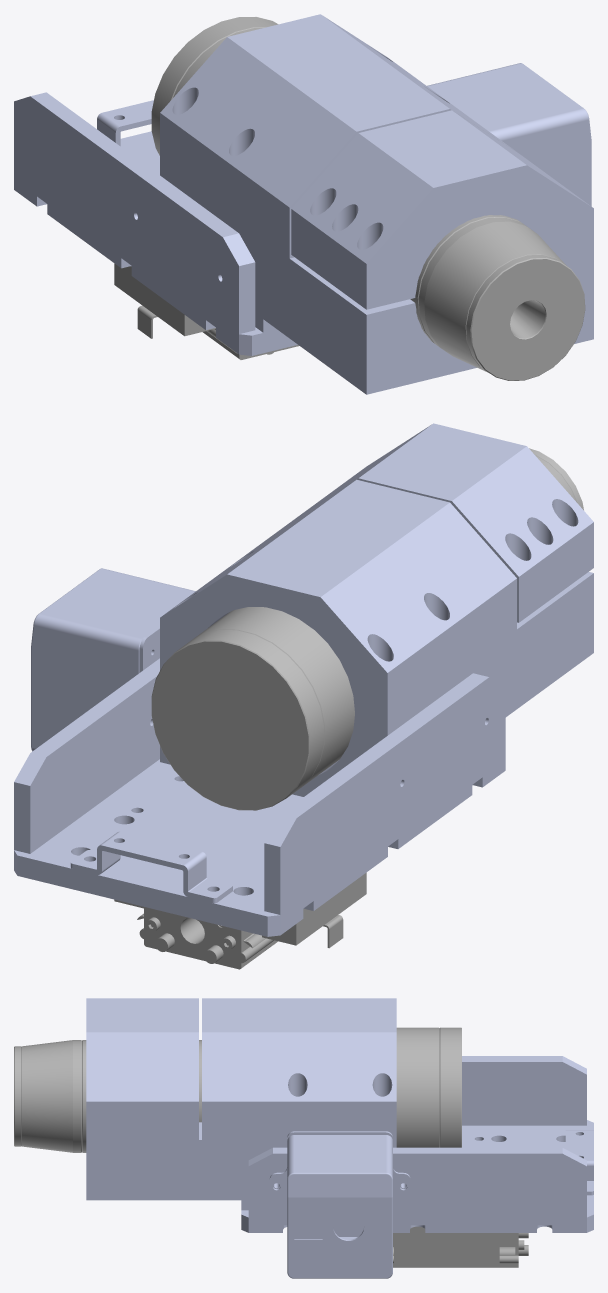
File: Z_Axis2.fbx
3 views of the same model, one above another, from view 1: azimuth 30°, elevation 25°; view 2: azimuth 150°, elevation 25°; view 3: azimuth 270°, elevation 25° (orthographic). The views are drawn at different scales.
Visible parts, largest first — view 1: small gantry Cnc machine.IGS-1/翋嵞嘐隅釱.IGS-1-solid1, small gantry Cnc machine.IGS-1/翋嵞_EIA0820-30_3D.IGS-1-solid1, small gantry Cnc machine.IGS-1/11011M084-P07.1翋嵞澀啣.IGS-1-sol, small gantry Cnc machine.IGS-1/偌漃碟.IGS-1-solid1, small gantry Cnc machine.IGS-1/11011M084-P06.2翋嵞窣諉啣.IGS-1-so, small gantry Cnc machine.IGS-1/KK86-AS2.IGS-1-solid1, small gantry Cnc machine.IGS-1/11011M084-P12.0旰毾踢.IGS-1-soli; view 2: small gantry Cnc machine.IGS-1/翋嵞嘐隅釱.IGS-1-solid1, small gantry Cnc machine.IGS-1/翋嵞_EIA0820-30_3D.IGS-1-solid1, small gantry Cnc machine.IGS-1/11011M084-P06.2翋嵞窣諉啣.IGS-1-so, small gantry Cnc machine.IGS-1/11011M084-P07.1翋嵞澀啣.IGS-1-sol, small gantry Cnc machine.IGS-1/偌漃碟.IGS-1-solid1, small gantry Cnc machine.IGS-1/11011M084-P07.2翋嵞澀啣.IGS-1-sol, small gantry Cnc machine.IGS-1/KK86-AS2.IGS-1-solid1, small gantry Cnc machine.IGS-1/11011M084-P12.0旰毾踢.IGS-1-soli; view 3: small gantry Cnc machine.IGS-1/翋嵞嘐隅釱.IGS-1-solid1, small gantry Cnc machine.IGS-1/翋嵞_EIA0820-30_3D.IGS-1-solid1, small gantry Cnc machine.IGS-1/11011M084-P07.2翋嵞澀啣.IGS-1-sol, small gantry Cnc machine.IGS-1/偌漃碟.IGS-1-solid1, small gantry Cnc machine.IGS-1/11011M084-P07.1翋嵞澀啣.IGS-1-sol, small gantry Cnc machine.IGS-1/11011M084-P06.2翋嵞窣諉啣.IGS-1-so, small gantry Cnc machine.IGS-1/KK86-AS2.IGS-1-solid1, small gantry Cnc machine.IGS-1/11011M084-P15.0 偌漃碟嘐隅啣.IGS-1-, small gantry Cnc machine.IGS-1/11011M084-P12.0旰毾踢.IGS-1-soli.
Part boxes in pixels (x1,y1,x2,y2): small gantry Cnc machine.IGS-1/翋嵞嘐隅釱.IGS-1-solid1: [160, 14, 593, 394]; small gantry Cnc machine.IGS-1/翋嵞_EIA0820-30_3D.IGS-1-solid1: [151, 17, 585, 380]; small gantry Cnc machine.IGS-1/11011M084-P07.1翋嵞澀啣.IGS-1-sol: [14, 92, 255, 333]; small gantry Cnc machine.IGS-1/偌漃碟.IGS-1-solid1: [427, 63, 591, 206]; small gantry Cnc machine.IGS-1/11011M084-P06.2翋嵞窣諉啣.IGS-1-so: [14, 131, 297, 355]; small gantry Cnc machine.IGS-1/KK86-AS2.IGS-1-solid1: [114, 263, 299, 359]; small gantry Cnc machine.IGS-1/11011M084-P12.0旰毾踢.IGS-1-soli: [97, 100, 153, 146]; small gantry Cnc machine.IGS-1/翋嵞嘐隅釱.IGS-1-solid1: [160, 423, 593, 796]; small gantry Cnc machine.IGS-1/翋嵞_EIA0820-30_3D.IGS-1-solid1: [151, 448, 583, 810]; small gantry Cnc machine.IGS-1/11011M084-P06.2翋嵞窣諉啣.IGS-1-so: [14, 750, 505, 936]; small gantry Cnc machine.IGS-1/11011M084-P07.1翋嵞澀啣.IGS-1-sol: [264, 673, 505, 914]; small gantry Cnc machine.IGS-1/偌漃碟.IGS-1-solid1: [31, 568, 195, 751]; small gantry Cnc machine.IGS-1/11011M084-P07.2翋嵞澀啣.IGS-1-sol: [14, 658, 159, 853]; small gantry Cnc machine.IGS-1/KK86-AS2.IGS-1-solid1: [114, 872, 366, 969]; small gantry Cnc machine.IGS-1/11011M084-P12.0旰毾踢.IGS-1-soli: [70, 831, 232, 903]; small gantry Cnc machine.IGS-1/翋嵞嘐隅釱.IGS-1-solid1: [86, 998, 396, 1210]; small gantry Cnc machine.IGS-1/翋嵞_EIA0820-30_3D.IGS-1-solid1: [14, 1027, 461, 1152]; small gantry Cnc machine.IGS-1/11011M084-P07.2翋嵞澀啣.IGS-1-sol: [248, 1147, 586, 1217]; small gantry Cnc machine.IGS-1/偌漃碟.IGS-1-solid1: [287, 1135, 392, 1278]; small gantry Cnc machine.IGS-1/11011M084-P07.1翋嵞澀啣.IGS-1-sol: [462, 1056, 586, 1125]; small gantry Cnc machine.IGS-1/11011M084-P06.2翋嵞窣諉啣.IGS-1-so: [241, 1120, 593, 1232]; small gantry Cnc machine.IGS-1/KK86-AS2.IGS-1-solid1: [393, 1226, 528, 1267]; small gantry Cnc machine.IGS-1/11011M084-P15.0 偌漃碟嘐隅啣.IGS-1-: [269, 1131, 410, 1204]; small gantry Cnc machine.IGS-1/11011M084-P12.0旰毾踢.IGS-1-soli: [565, 1130, 593, 1195].
Size of the model in its own units: 233 by 184 by 411.
